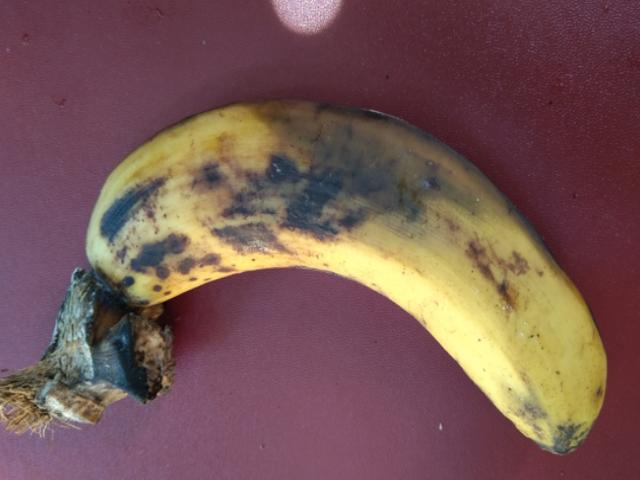rotten: (83, 80, 624, 468)
